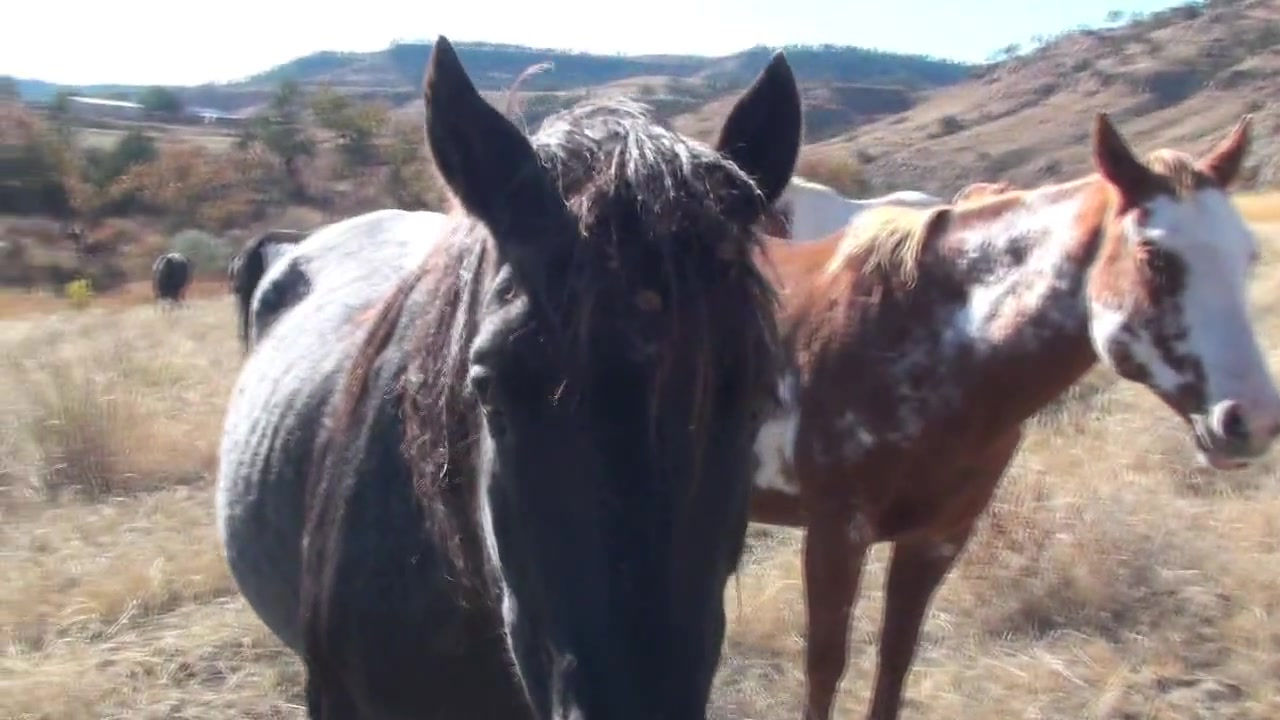horse: (215, 33, 811, 720)
